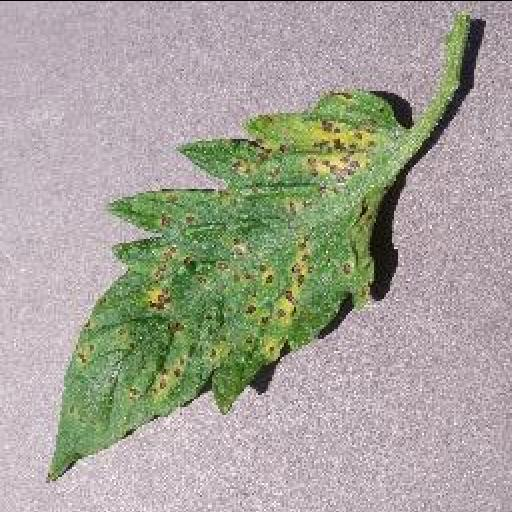disease_tomato: (44, 86, 406, 474)
